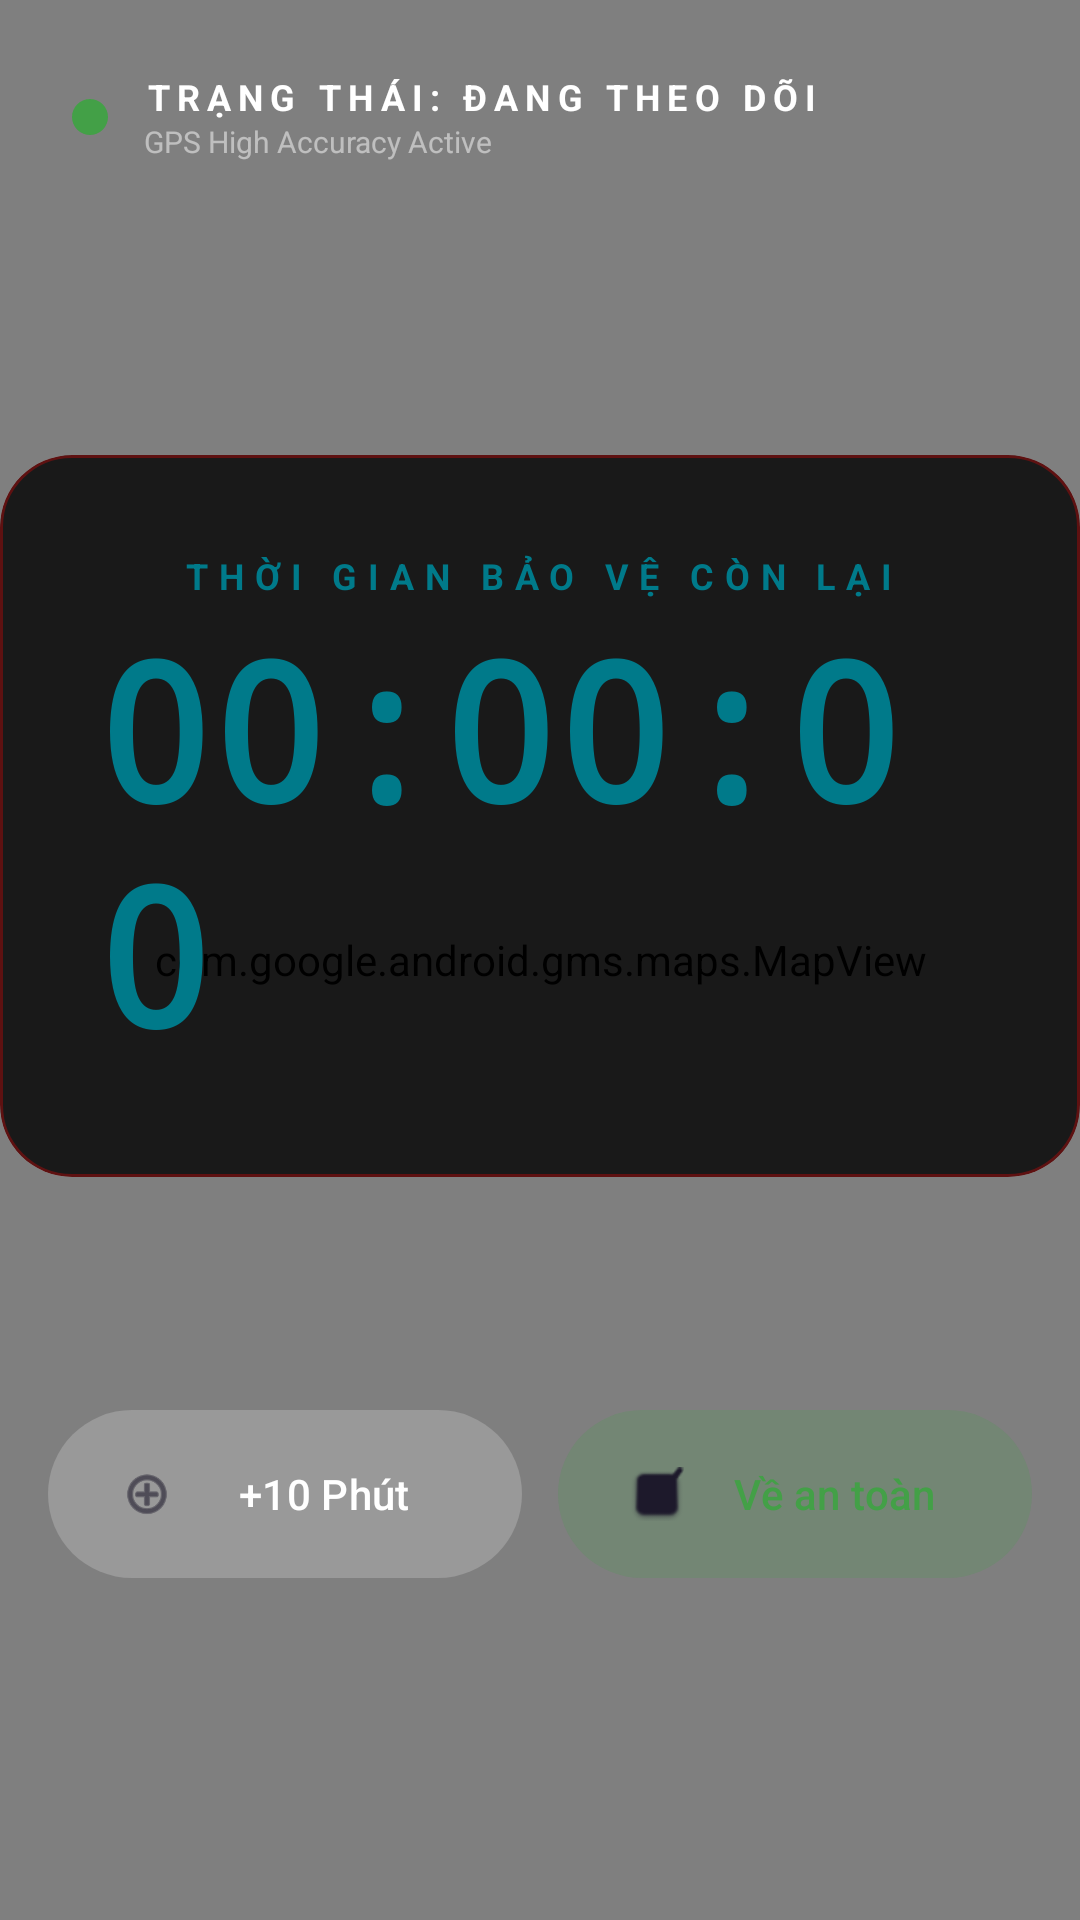

Icons on this 1080w x 1920h Android screen, each with the point to tap as (x,y):
status dot: (90,117)
